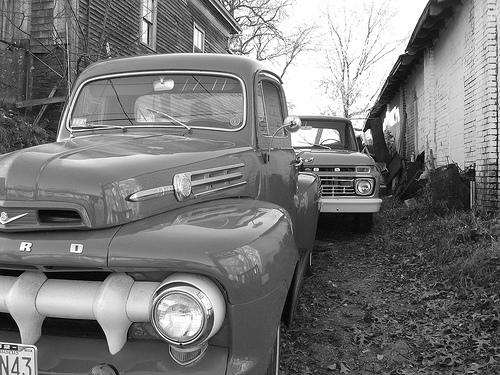truck: (0, 52, 321, 375)
